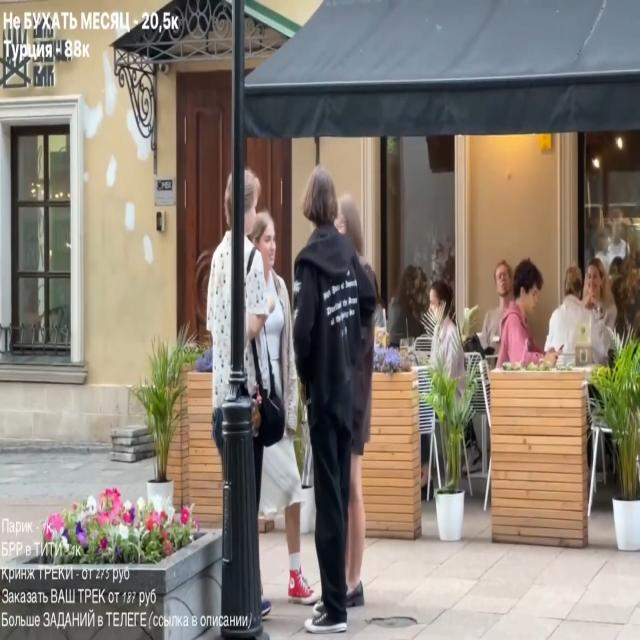Person: (290, 152, 386, 631), (545, 262, 617, 367), (496, 260, 555, 368), (387, 266, 430, 341)
